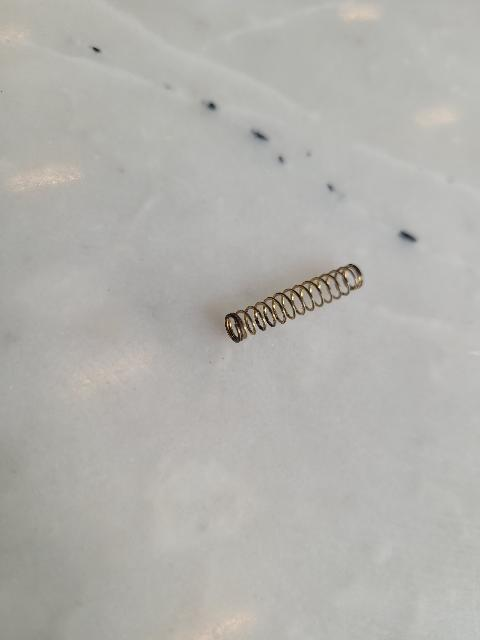Metal: (214, 252, 367, 353)
